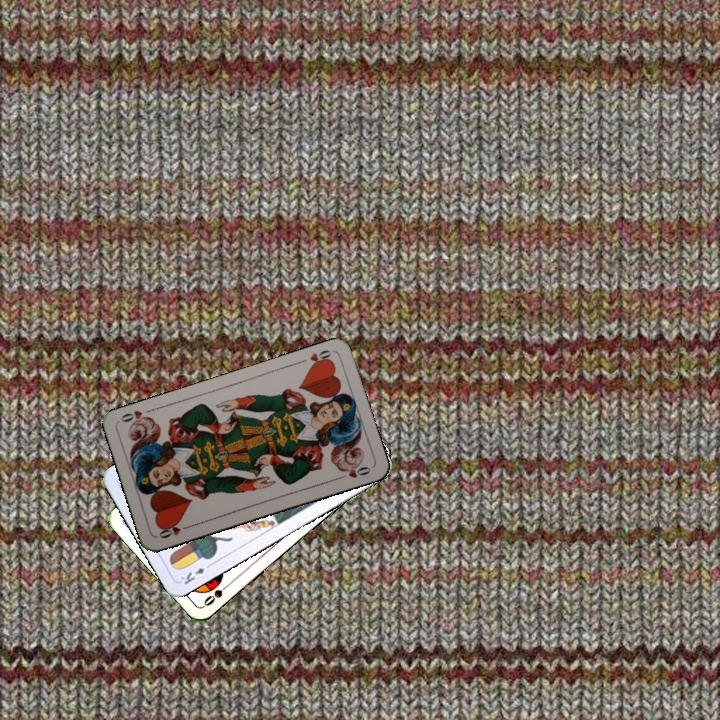EK: (176, 559, 215, 587)
HO: (296, 346, 335, 370), (155, 519, 194, 541)
SO: (199, 578, 234, 609)
